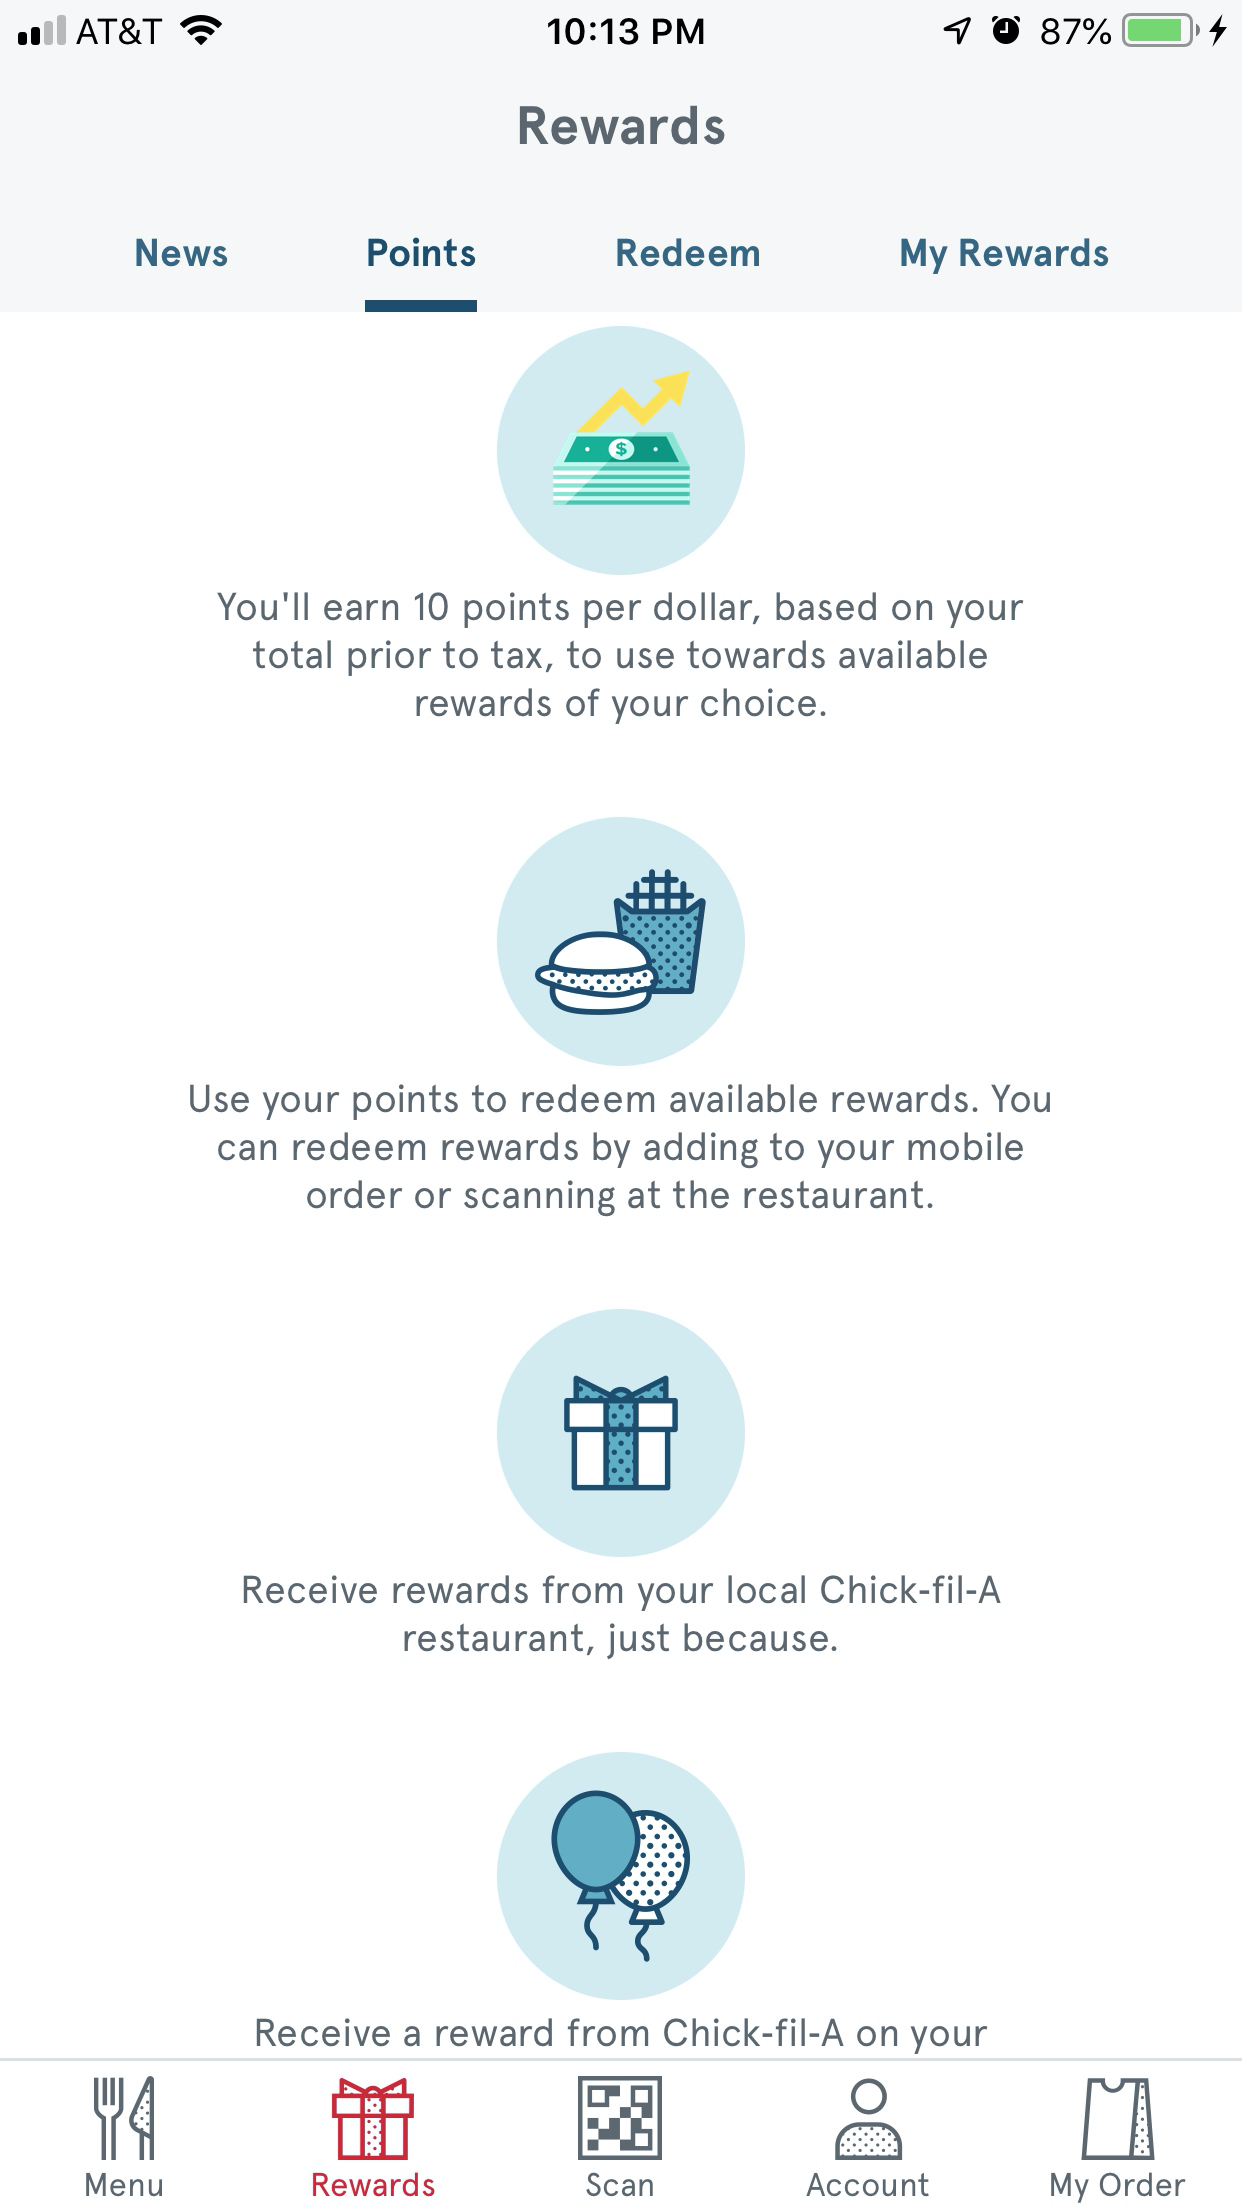Icon: (497, 1309, 745, 1557), (332, 2078, 416, 2161), (834, 2078, 902, 2161)
Image: (496, 326, 746, 576), (497, 817, 748, 1068), (497, 1752, 746, 2002), (578, 2076, 663, 2161), (1081, 2078, 1156, 2161), (94, 2076, 156, 2161)
Text: (190, 1084, 1052, 1218), (215, 591, 1024, 726), (243, 1576, 1002, 1661), (256, 2017, 989, 2055), (519, 105, 726, 147), (899, 238, 1109, 276), (616, 238, 760, 268), (1049, 2172, 1186, 2203), (369, 237, 478, 268), (805, 2172, 930, 2197), (312, 2172, 437, 2197), (136, 238, 229, 268), (86, 2172, 164, 2197), (585, 2172, 654, 2197)
UpperTaskBar: (2, 2, 1242, 50)
